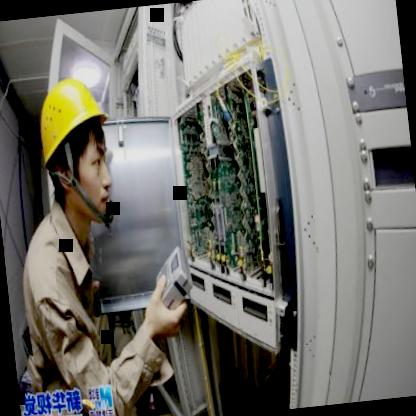helmet: (27, 48, 130, 239)
